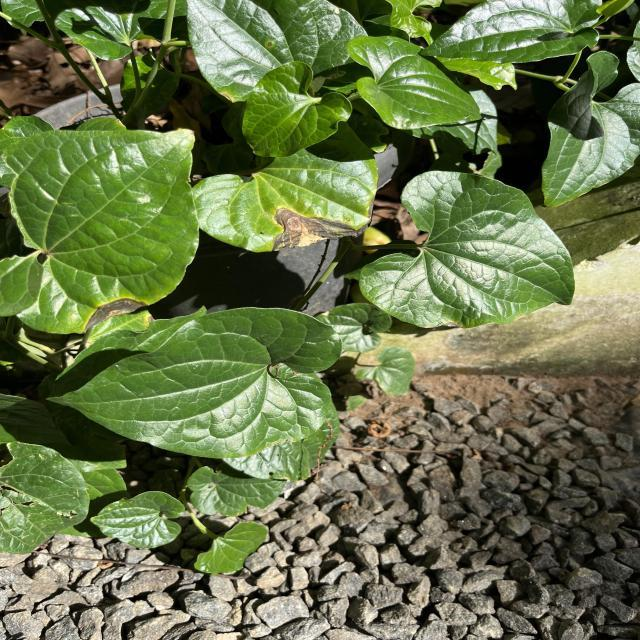Piper longum: (43, 305, 344, 460), (356, 169, 578, 331), (537, 48, 640, 209), (345, 32, 487, 132), (238, 60, 354, 158)
